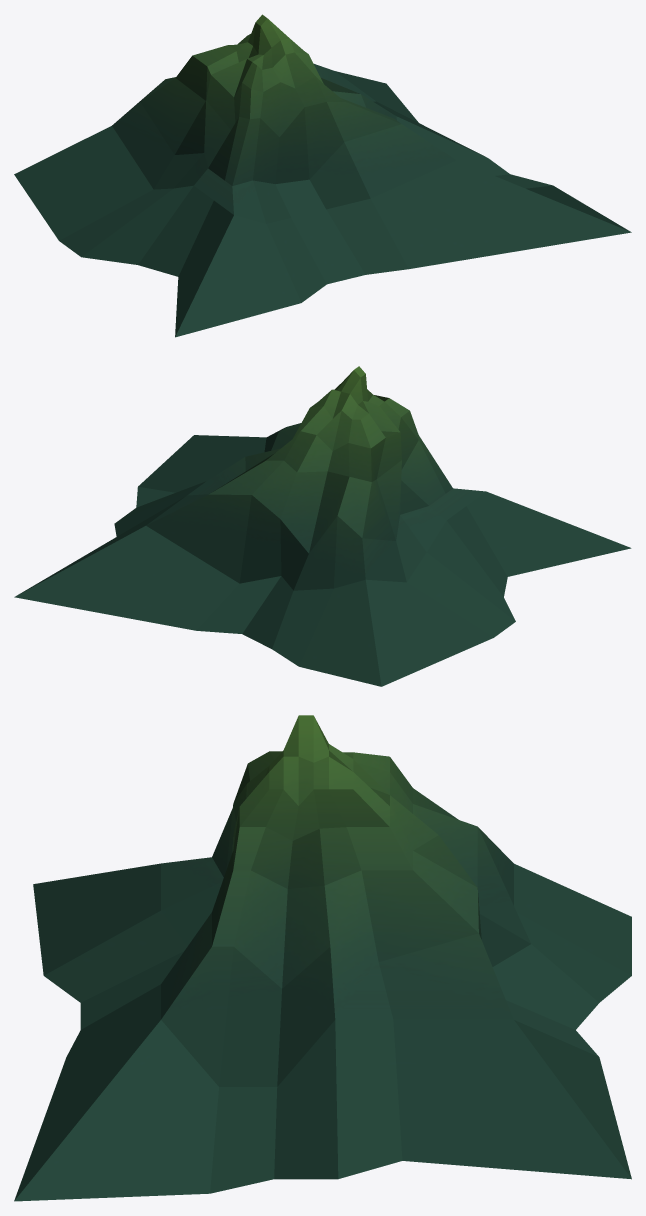
File: MOD_Mountain3.fbx
3 renders of one model, top to bottom at view 1: azimuth 30°, elevation 25°; view 2: azimuth 150°, elevation 25°; view 3: azimuth 270°, elevation 25°, orthographic. The views are drawn at different scales.
Visible parts, largest first — view 1: MOD_Berg2; view 2: MOD_Berg2; view 3: MOD_Berg2.
Boxes of the visible parts, left/top/right/bottom form: MOD_Berg2: left=14, top=14, right=631, bottom=337; MOD_Berg2: left=14, top=366, right=631, bottom=686; MOD_Berg2: left=14, top=715, right=631, bottom=1201.
Size of the model in its own units: 31.91 by 14.01 by 26.27.
1 material, 1 textured.
